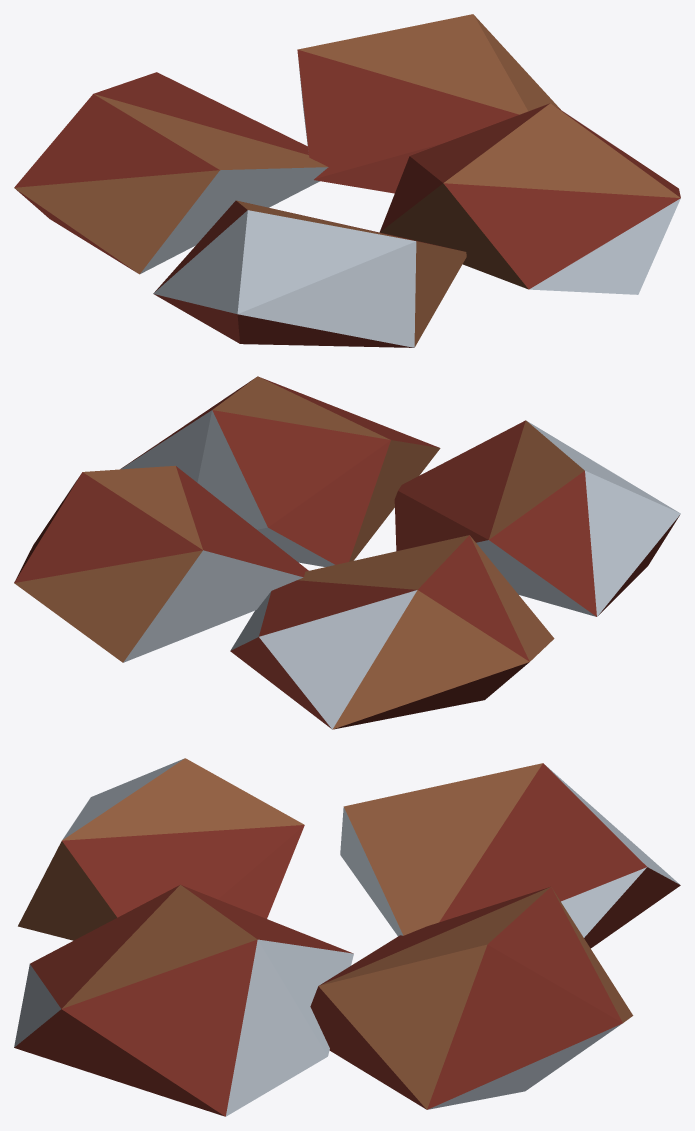
Rendered from minerai_fer_1.glb.
3 views of the same model, one above another, from view 1: azimuth 30°, elevation 25°; view 2: azimuth 150°, elevation 25°; view 3: azimuth 270°, elevation 25° (orthographic). The views are drawn at different scales.
Parts seen in each view (by area): view 1: minerai_hematite.004, minerai_rouille.004, minerai_fer_metal.004; view 2: minerai_hematite.004, minerai_rouille.004, minerai_fer_metal.004; view 3: minerai_hematite.004, minerai_rouille.004, minerai_fer_metal.004.
Boxes of the visible parts, box(x1,y1,x2,y2) form: minerai_hematite.004: box(14, 49, 680, 347); minerai_rouille.004: box(14, 14, 680, 347); minerai_fer_metal.004: box(140, 60, 680, 347); minerai_hematite.004: box(14, 376, 679, 729); minerai_rouille.004: box(14, 376, 584, 729); minerai_fer_metal.004: box(121, 410, 680, 729); minerai_hematite.004: box(14, 763, 680, 1116); minerai_rouille.004: box(18, 758, 633, 1109); minerai_fer_metal.004: box(14, 758, 679, 1116).
Size of the model in its own units: 0.5675 by 0.1156 by 0.5431.
